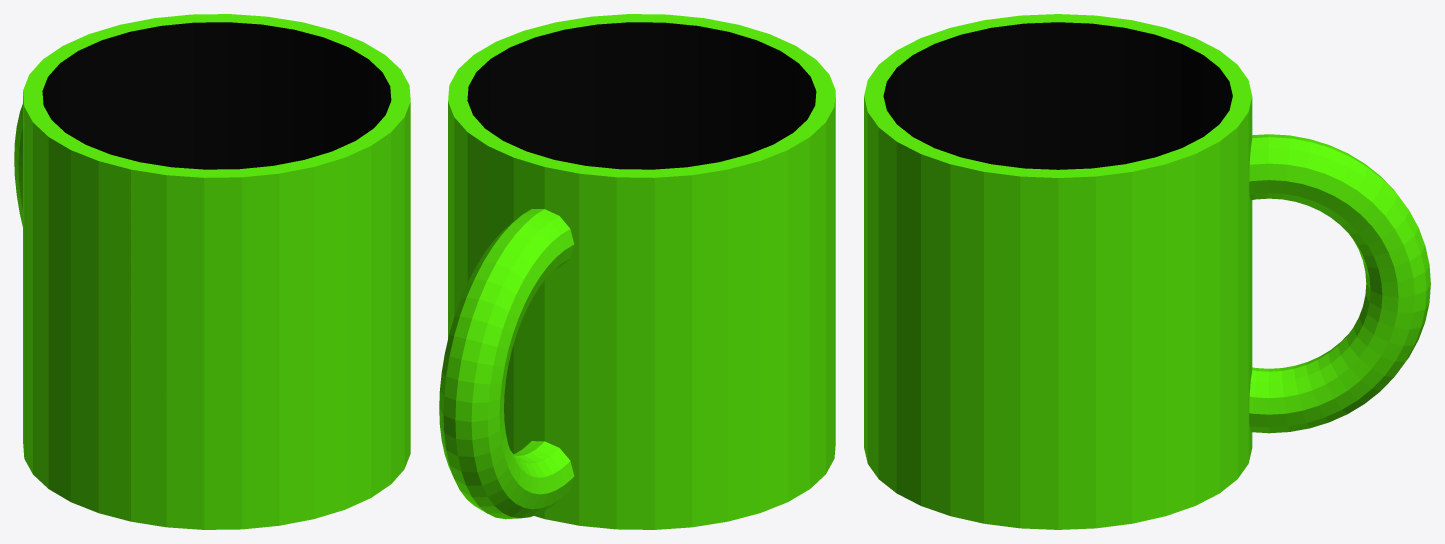
Rendered from cup.fbx.
3 renders of one model, left to right at view 1: azimuth 30°, elevation 25°; view 2: azimuth 150°, elevation 25°; view 3: azimuth 270°, elevation 25°, orthographic.
Parts seen in each view (by area): view 1: Cylinder, Cylinder.001, Torus; view 2: Cylinder, Cylinder.001, Torus; view 3: Cylinder, Cylinder.001, Torus.
Boxes of the visible parts, x1,y1,x2,y2 form: Cylinder: [23, 14, 410, 529]; Cylinder.001: [42, 22, 391, 169]; Torus: [14, 104, 22, 226]; Cylinder: [448, 14, 835, 529]; Cylinder.001: [467, 22, 816, 169]; Torus: [439, 209, 574, 519]; Cylinder: [864, 14, 1252, 529]; Cylinder.001: [883, 22, 1232, 169]; Torus: [1249, 134, 1430, 433].
Bounding box in the file's own units: 600 × 600 × 876.
